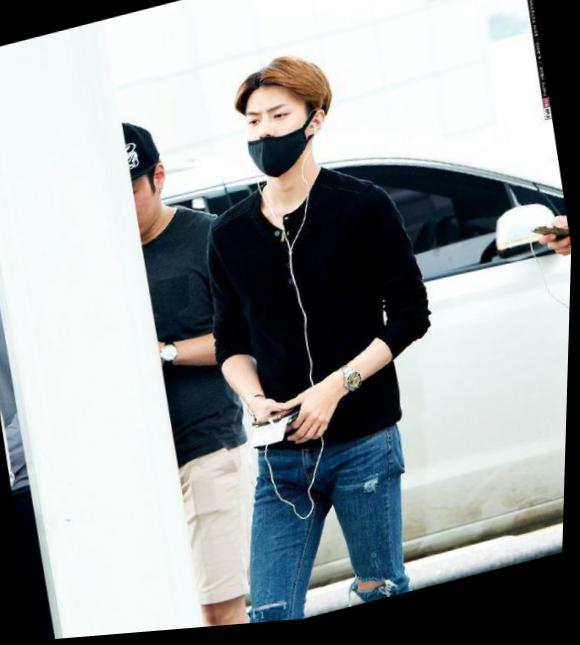WRONG: (237, 93, 328, 188)
